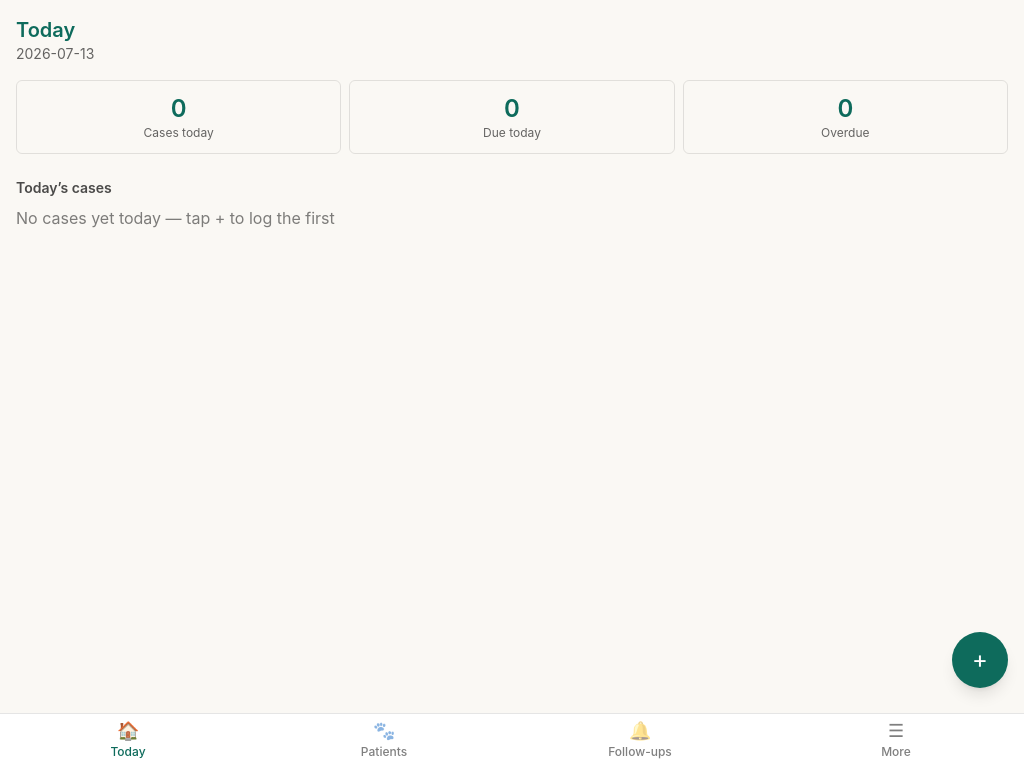
Test case: App bottom tab navigation › navigates to the Follow-ups page when its tab is clicked
The image size is (1024, 768).
Click the link "🔔 Follow-ups": (640,740) left=608, top=720, right=672, bottom=759
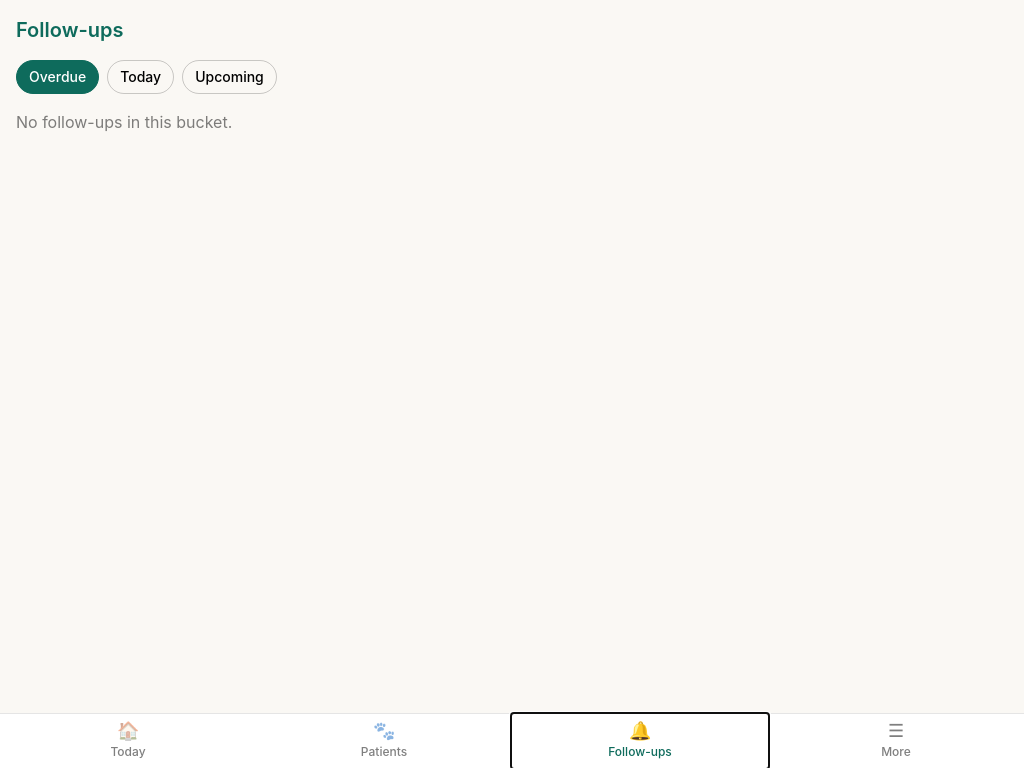
expect the heading "Follow-ups" is shown: met, box left=16, top=18, right=124, bottom=42
